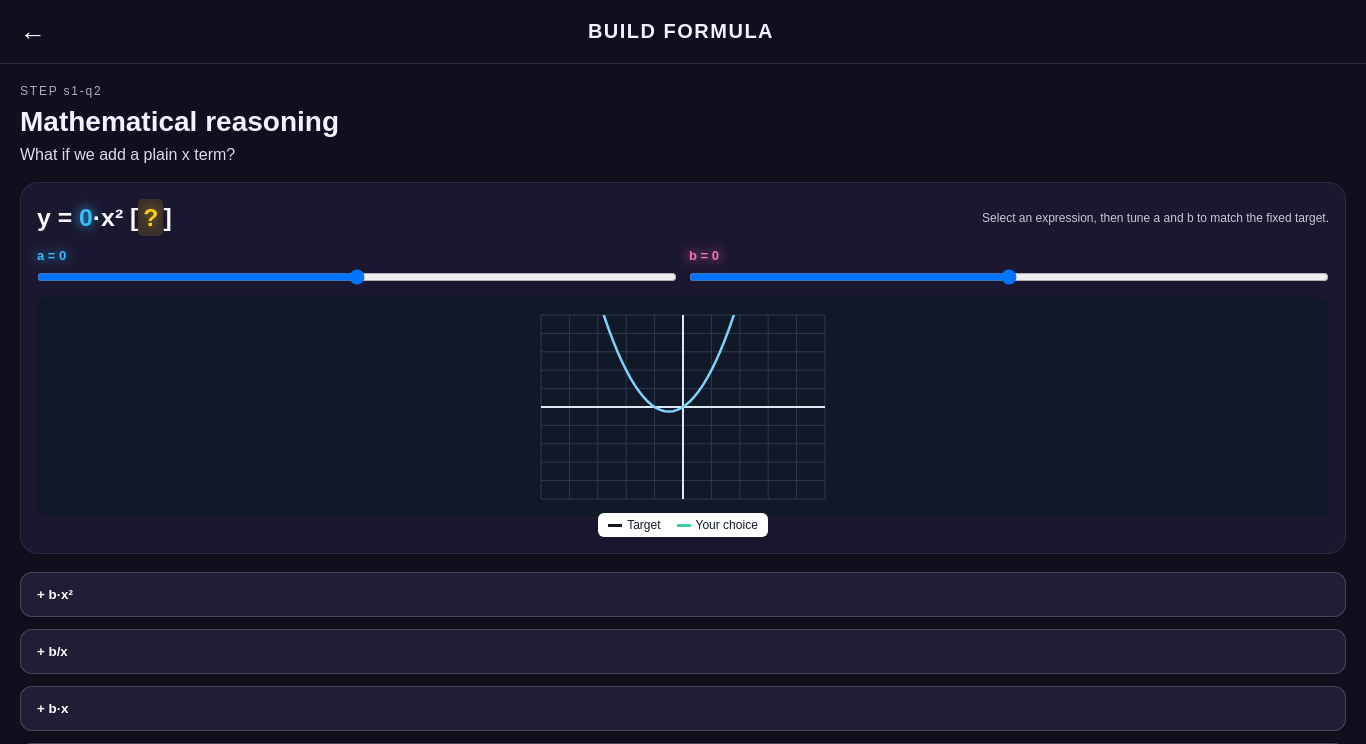
Scenario: build challenge overlays target and choice on one bounded graph and keeps its target fixed
Expected: the number of pictures with class "challenge-graph" is 1, [37, 297, 1329, 517]
Expected: the element with class "challenge-graph-legend" shows "Target", [627, 518, 661, 532]
Step 1. Click the button "+ b·x" → {"x": 53, "y": 709}, box [20, 686, 1346, 731]
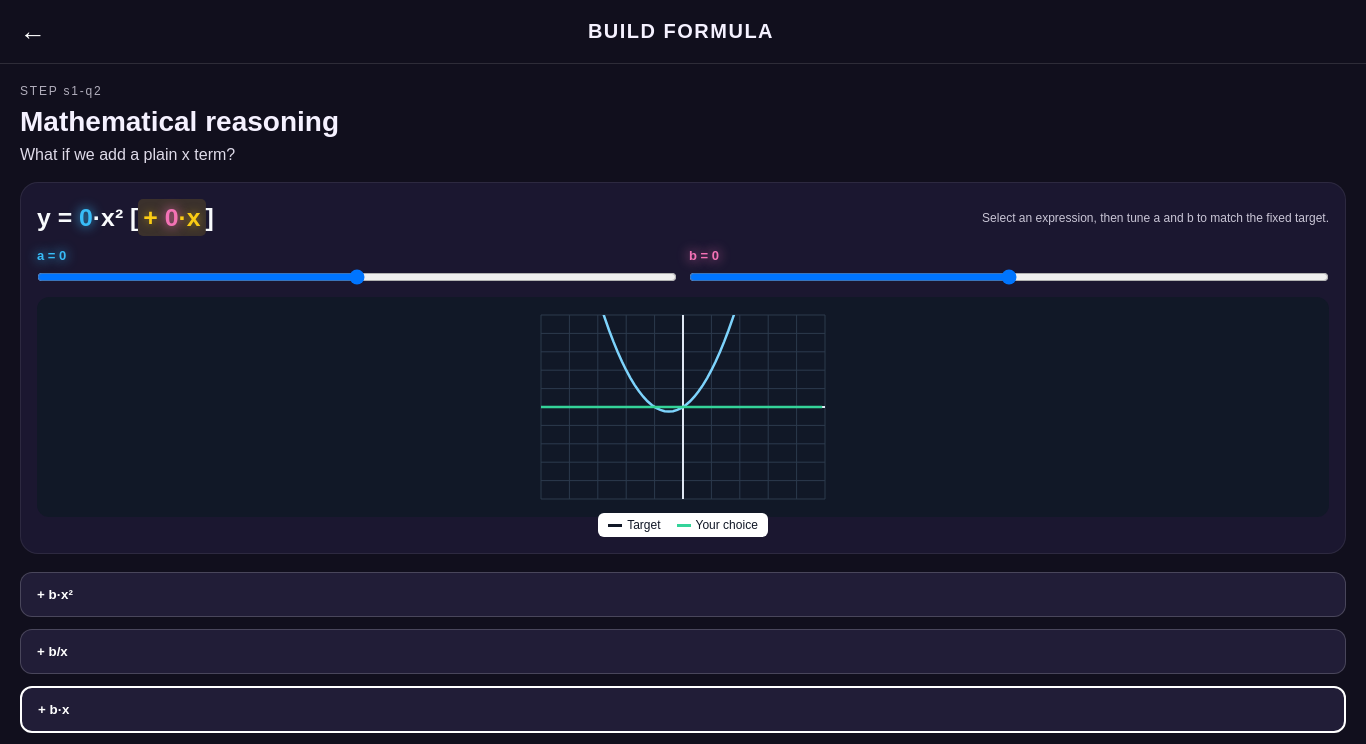
Expected: the number of pictures with class "challenge-graph" is 1, [37, 297, 1329, 517]
Result: the element with class "challenge-choice-value" reads "+ 0·x" at [138, 199, 206, 236]
Result: the 2nd text with class "challenge-coefficient-b" reads "0" at [165, 204, 178, 231]
Step 2. Set the slider labelled "a" to "1" → {"x": 461, "y": 277}, box [37, 269, 677, 285]
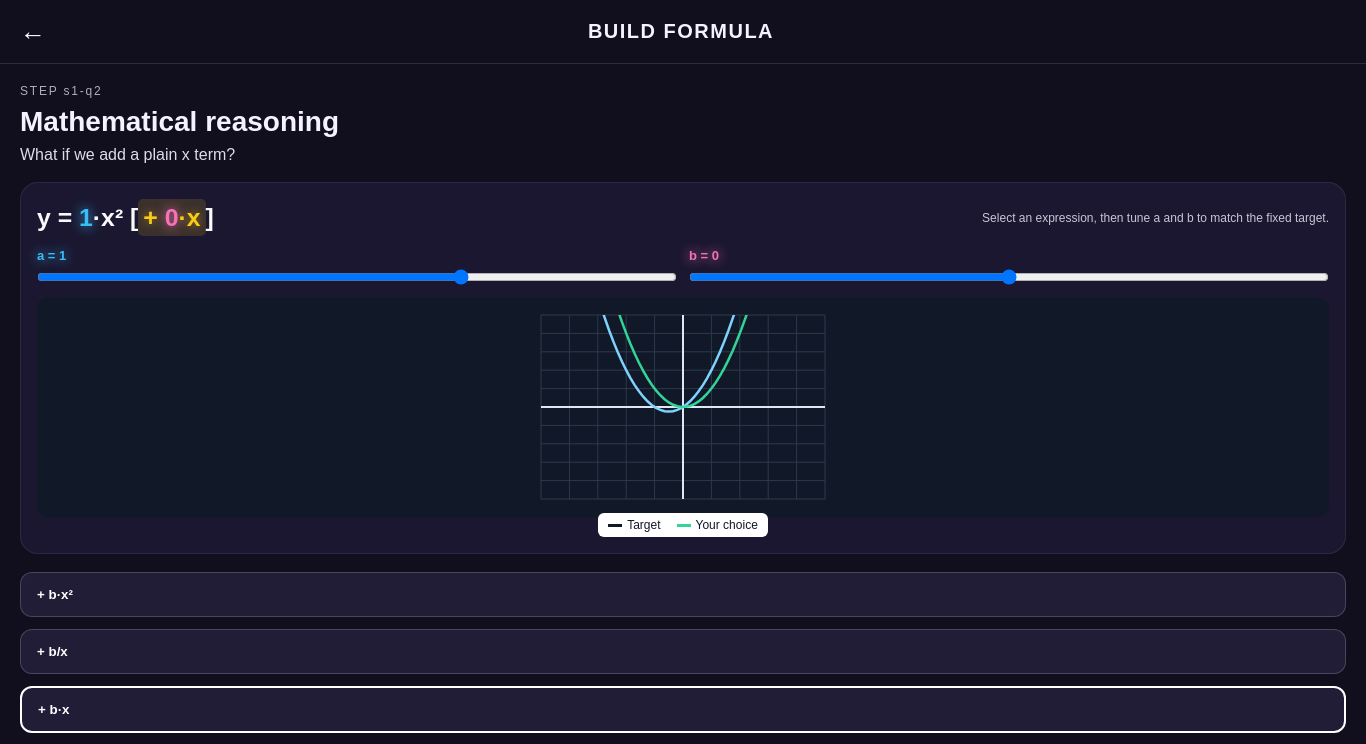
Step 3. Set the slider labelled "b" to "1" → {"x": 1113, "y": 277}, box [689, 269, 1329, 285]
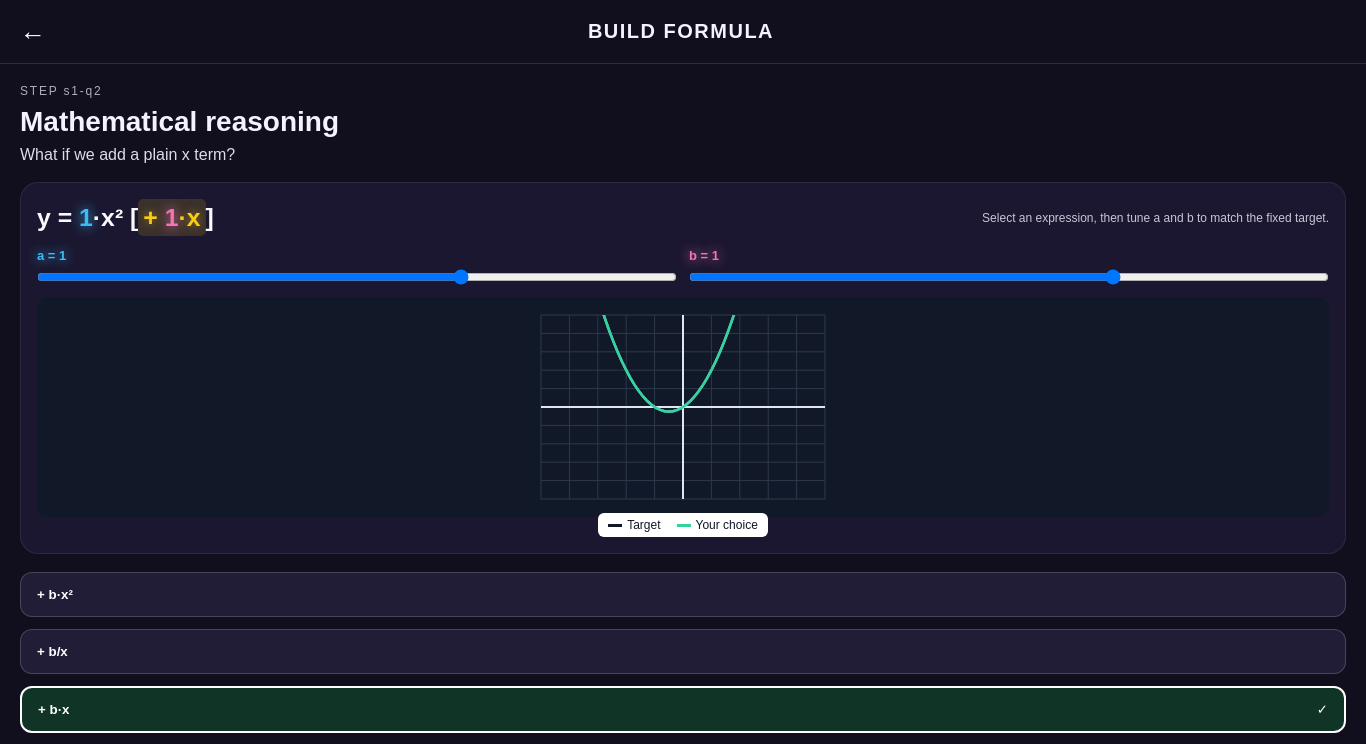
Result: the 1st text with class "challenge-coefficient-a" reads "1" at [79, 204, 93, 231]
Result: the 2nd text with class "challenge-coefficient-b" reads "1" at [165, 204, 178, 231]
Result: the element with class "challenge-choice-value" reads "+ 1·x" at [138, 199, 206, 236]
